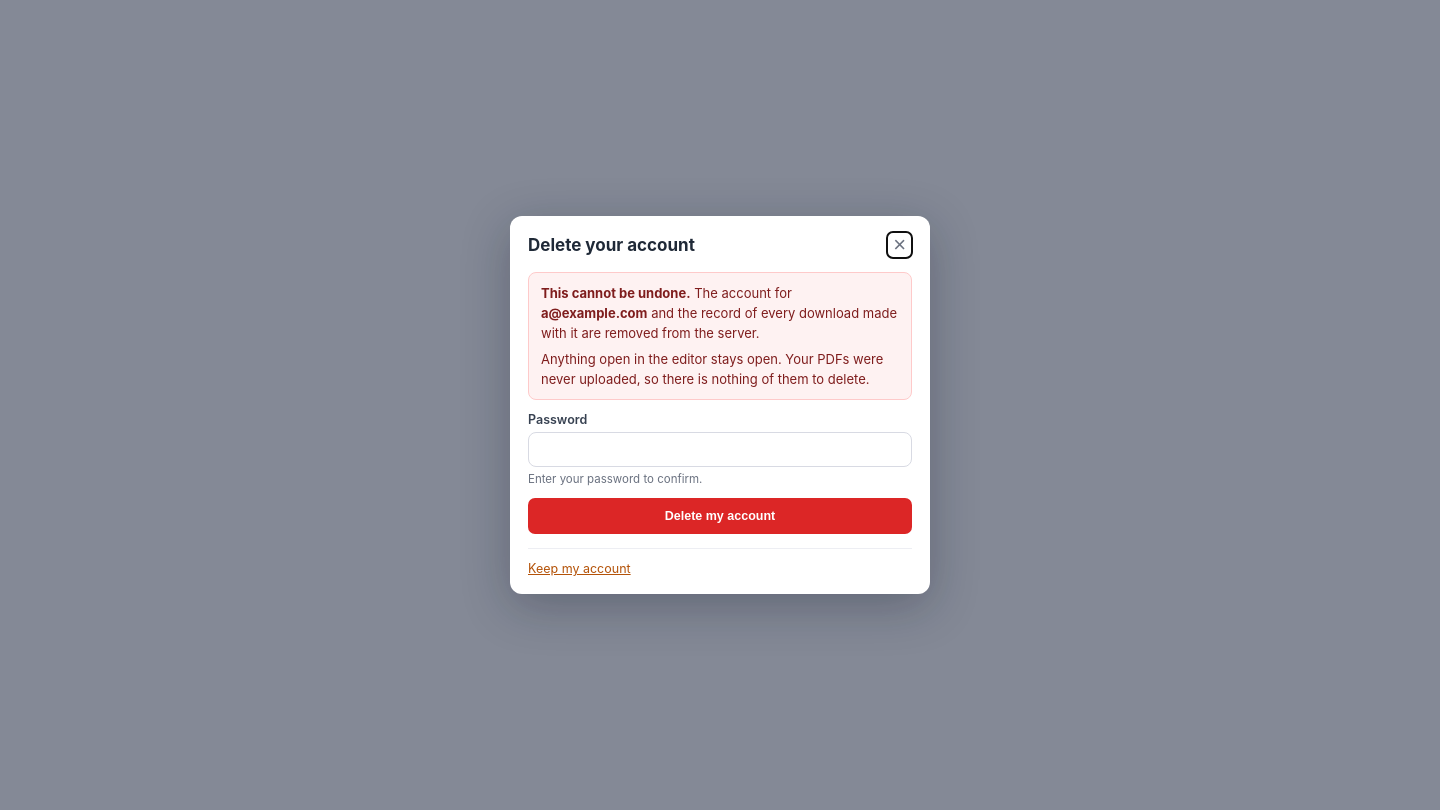
it: deleting an account › deletes with the password, signs out and says so
Type "correct horse battery" into the password field labelled "Password Enter your password to confirm." at (720, 450), box left=528, top=432, right=912, bottom=467
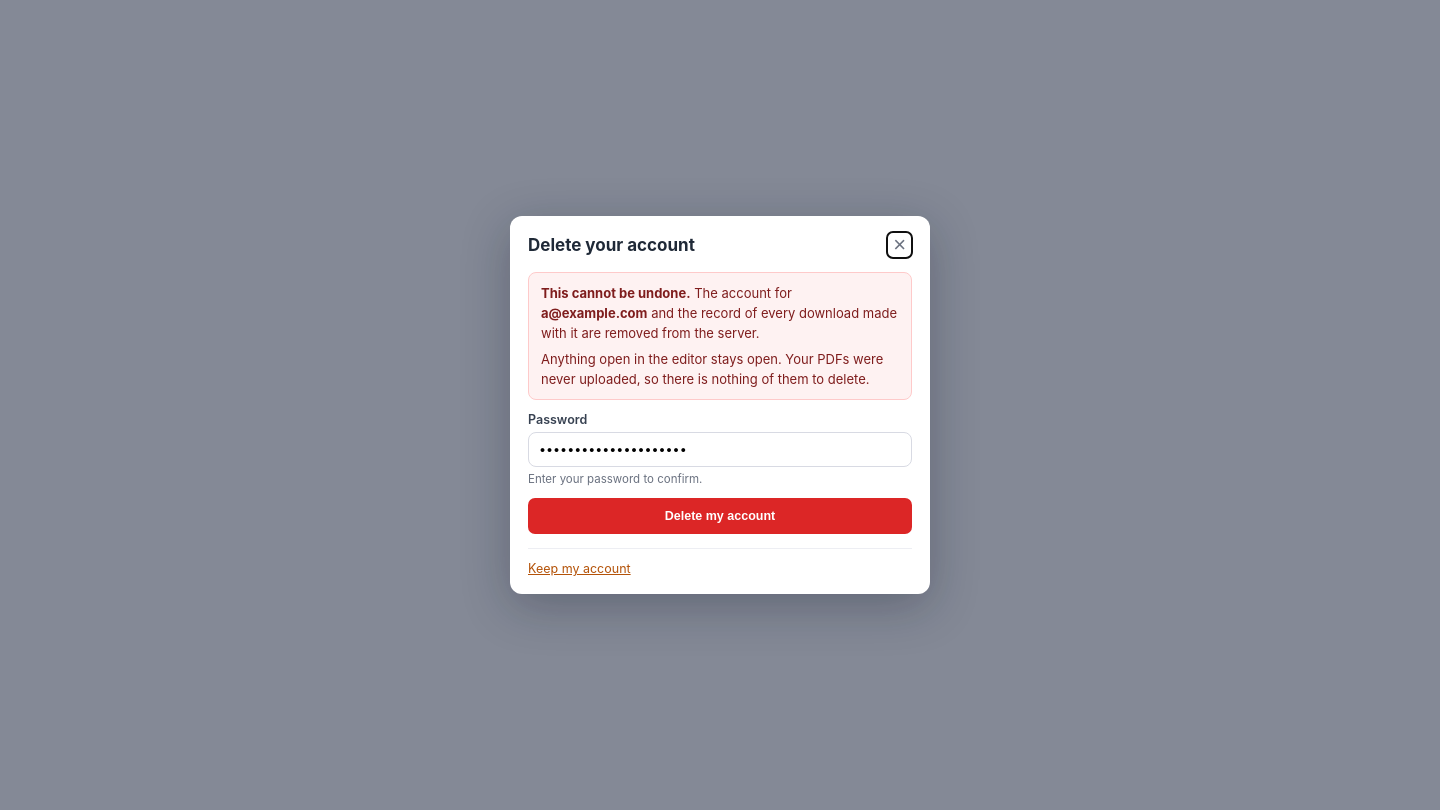
Click the button "Delete my account" at (720, 516), box left=528, top=498, right=912, bottom=534
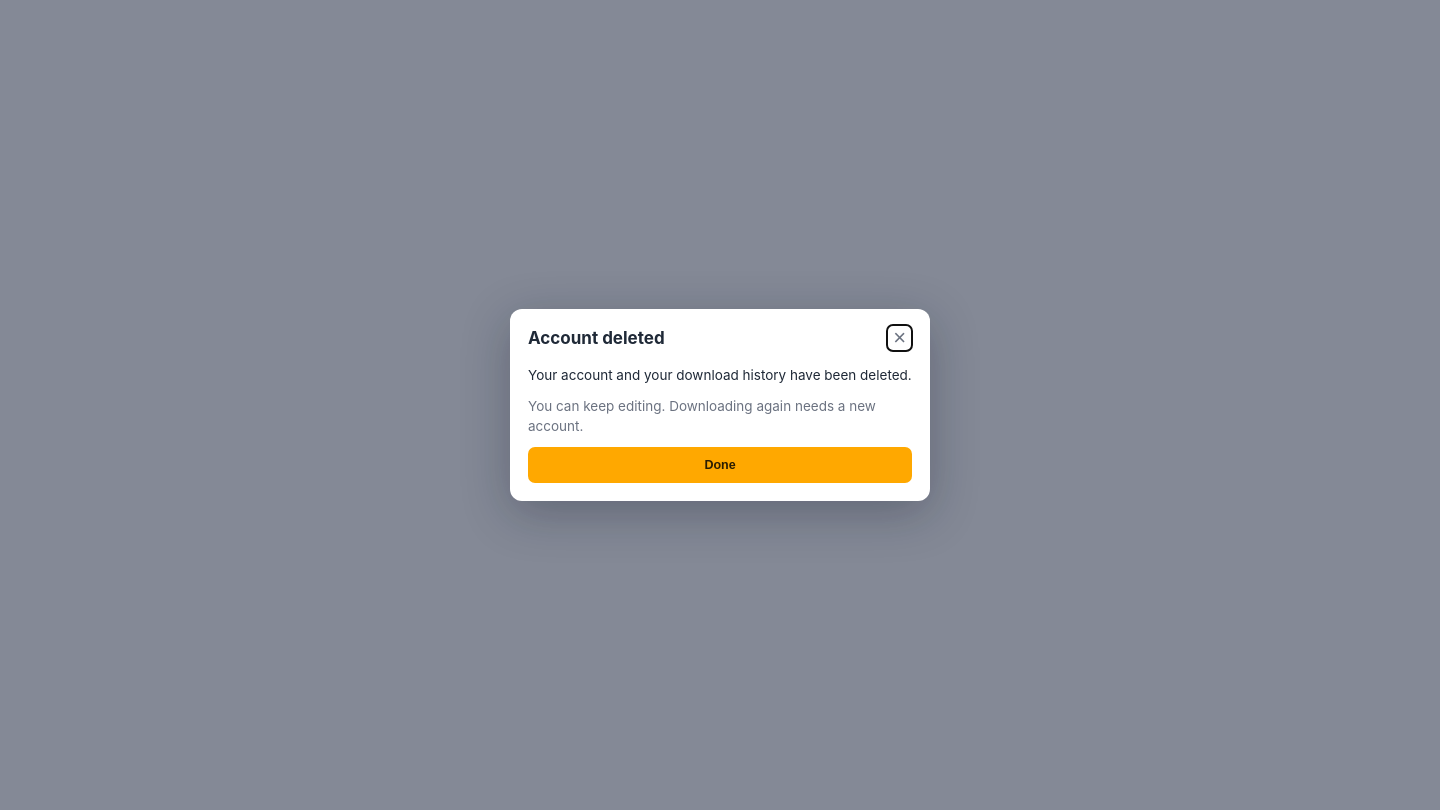
Check: the text "Your account and your download history have been deleted." is shown, box left=528, top=365, right=912, bottom=386
